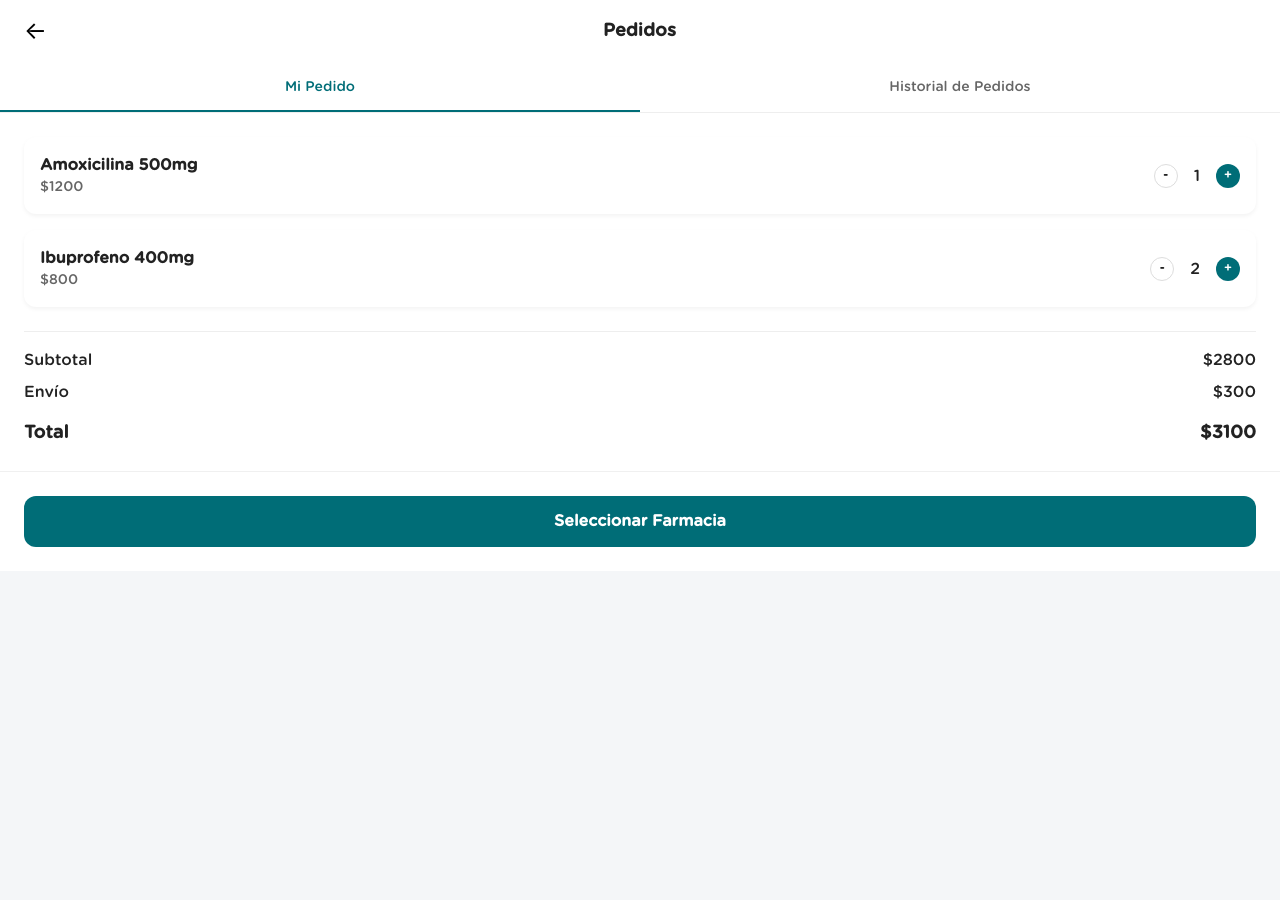
OrderReview Component › switches to order history tab
This screenshot has width=1280, height=900.
Expected: the text "Amoxicilina 500mg" is shown, 40,153 -> 198,177
Switch to history tab
Step 1. Click the button "Historial de Pedidos" → (960, 88), box 640,63 -> 1279,112
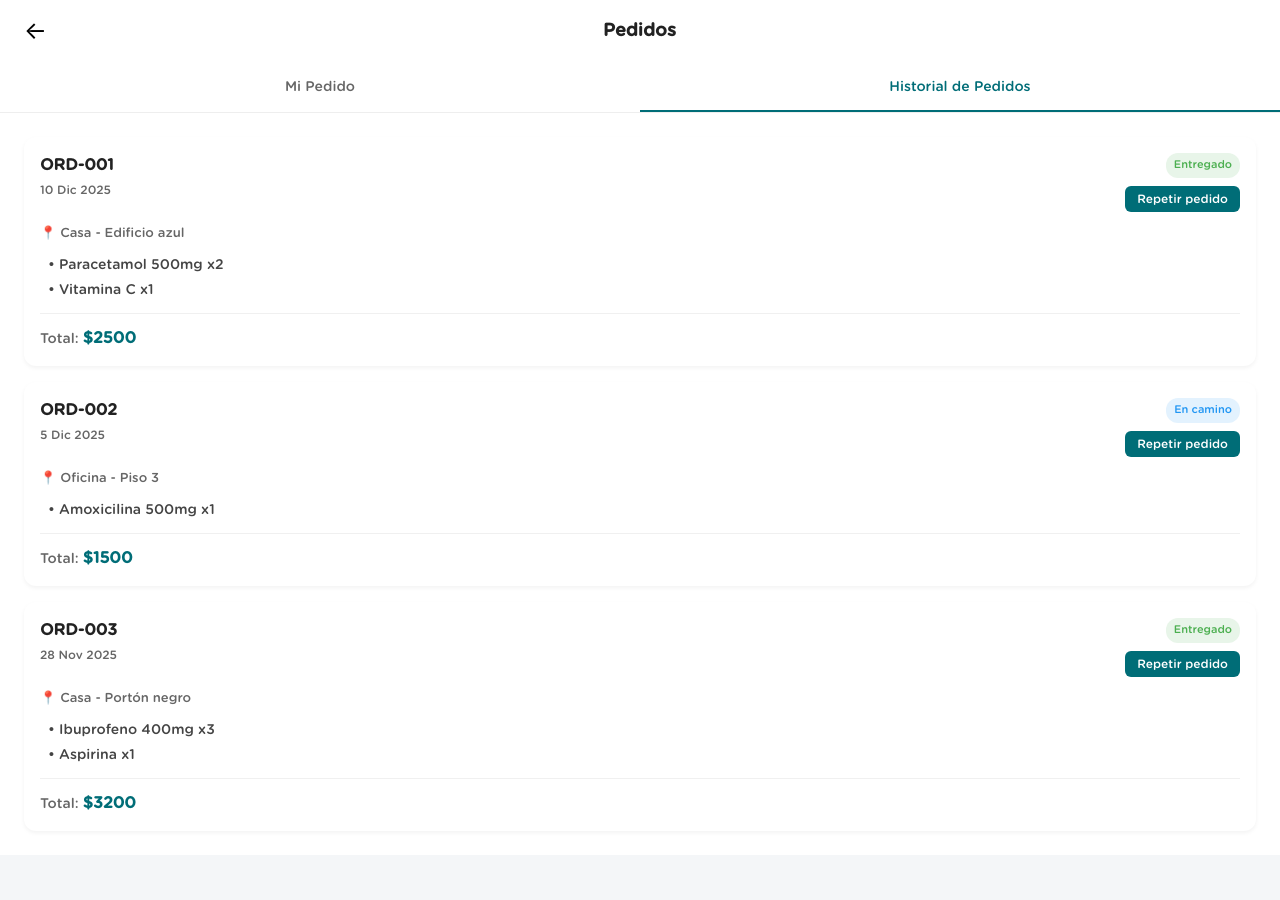
Expected: the text "ORD-001" is shown, 40,153 -> 114,177
Expected: the text "ORD-002" is shown, 40,398 -> 117,422
Expected: the text "Entregado" in the row of "ORD-001" is shown, 1174,159 -> 1232,170
